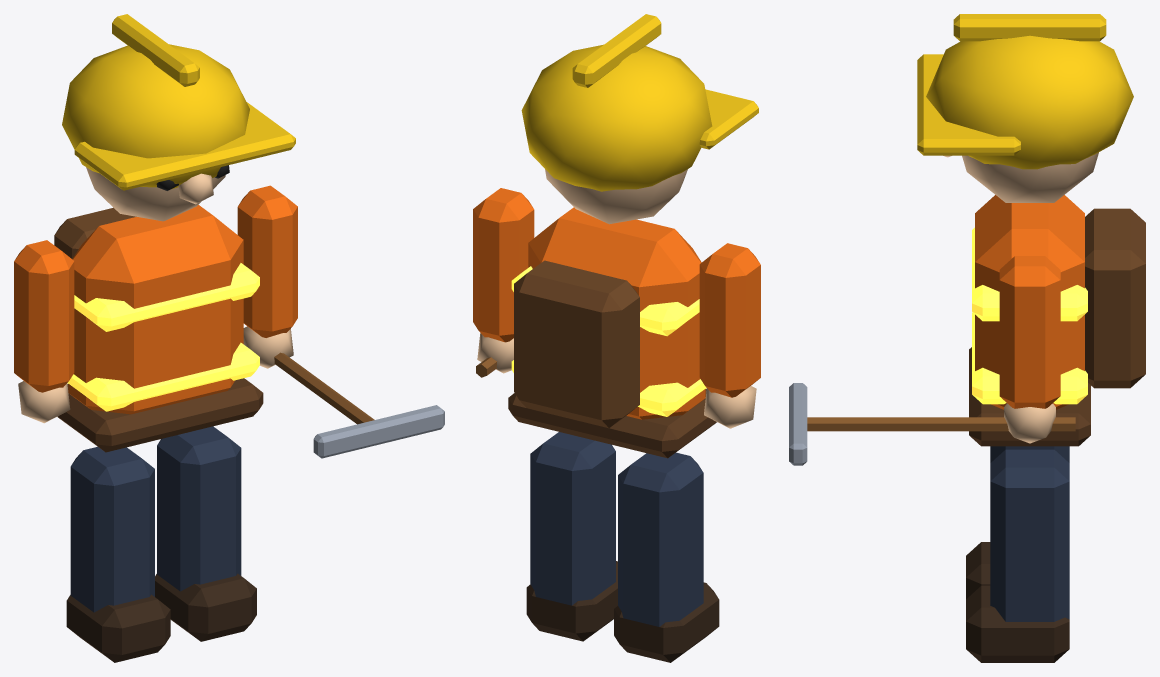
File: worker.glb
The picture shows the model from 3 angles, left to right: view 1: azimuth 30°, elevation 25°; view 2: azimuth 150°, elevation 25°; view 3: azimuth 270°, elevation 25°; orthographic projection. The views are drawn at different scales.
Visible parts, largest first — view 1: !body, !legL, !legR, !armR, !armL; view 2: !body, !legL, !legR, !armL, !armR; view 3: !body, !legR, !armR, !legL.
Part boxes in pixels (x1,y1,x2,y2): !body: [54, 14, 295, 452]; !legL: [66, 446, 170, 662]; !legR: [155, 426, 256, 641]; !armR: [237, 185, 444, 458]; !armL: [14, 240, 74, 423]; !body: [508, 14, 758, 458]; !legL: [614, 452, 719, 662]; !legR: [526, 432, 617, 641]; !armL: [699, 243, 760, 428]; !armR: [473, 188, 534, 377]; !body: [917, 14, 1145, 446]; !legR: [966, 449, 1069, 662]; !armR: [789, 256, 1075, 465]; !legL: [966, 446, 1069, 598].
Size of the model in its own units: 1.22 by 2.22 by 1.17.
